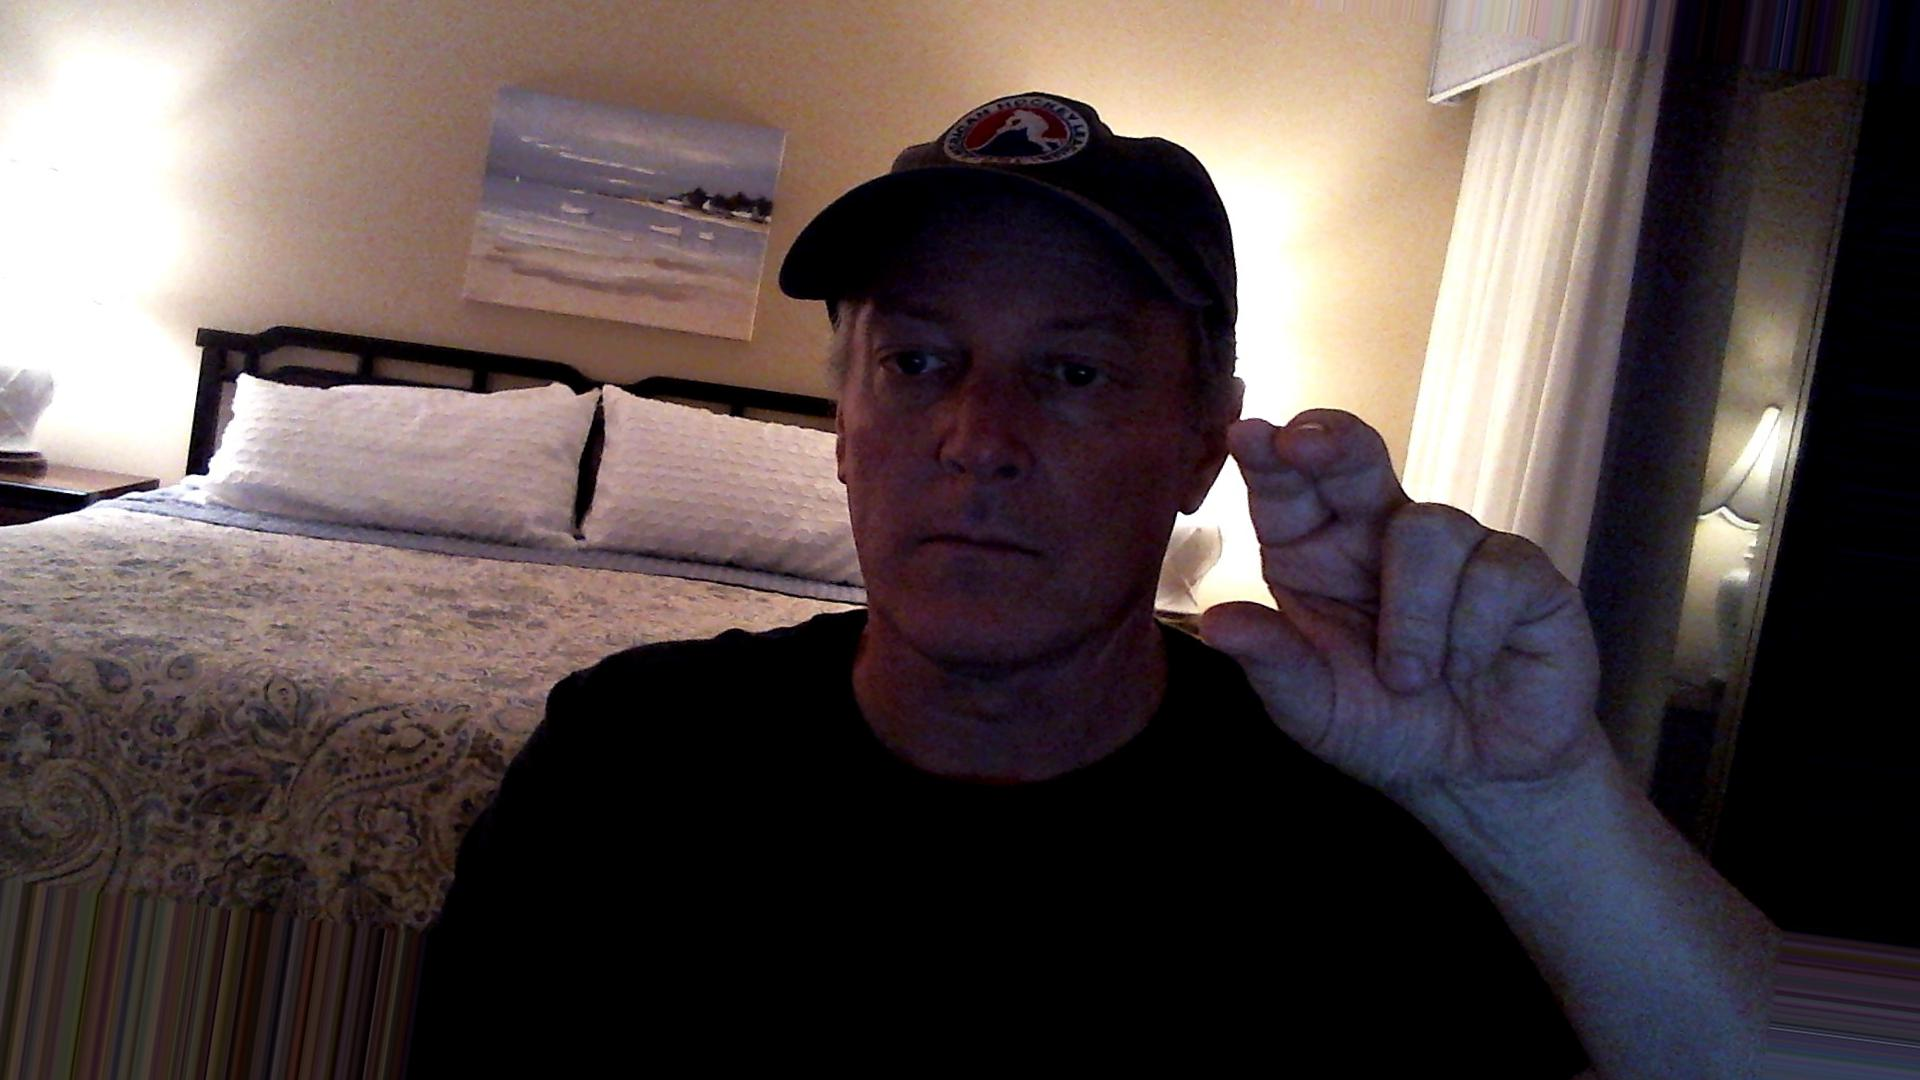No: (1171, 390, 1679, 870)
